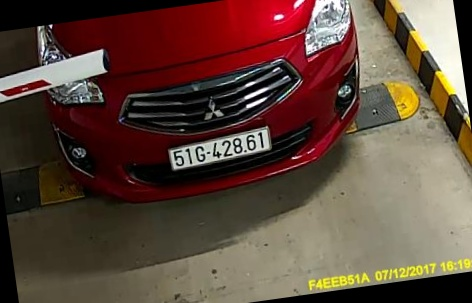plate: (170, 122, 277, 175)
